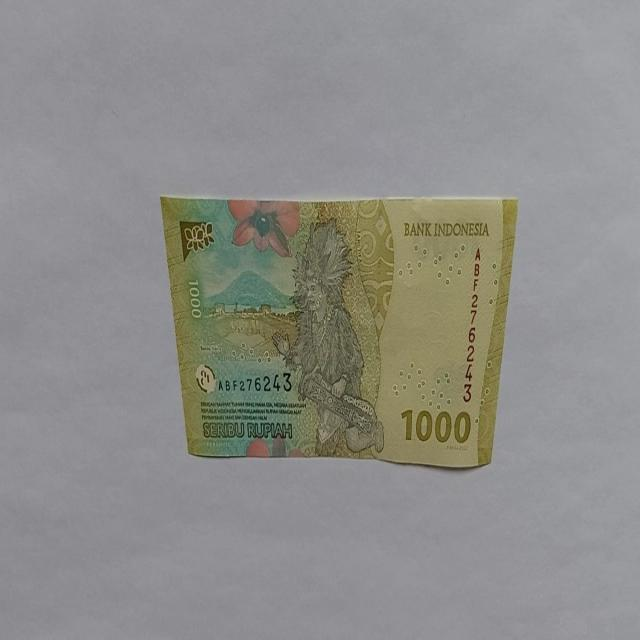seribu rupiah kertas: (159, 193, 519, 468)
